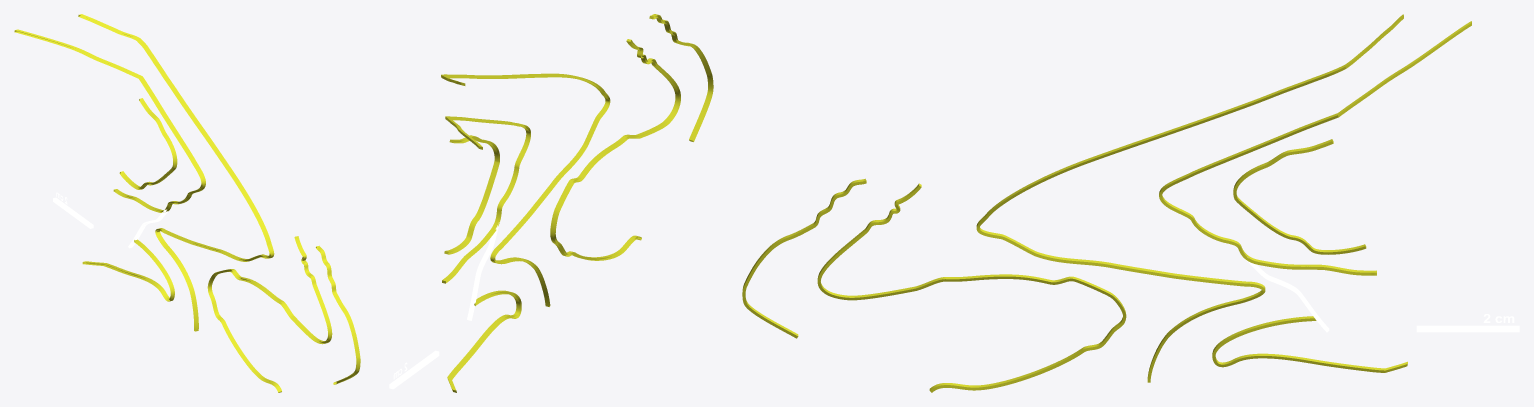
The model's file is Folds.glb.
3 views of the same model, side by side, from view 1: azimuth 30°, elevation 25°; view 2: azimuth 150°, elevation 25°; view 3: azimuth 270°, elevation 25° (orthographic). The views are drawn at different scales.
Parts seen in each view (by area): view 1: original curves.001; view 2: original curves.001, original additional curve.001, Cube.002; view 3: original curves.001, Cube.002.
Part boxes in pixels (x1,y1,x2,y2): original curves.001: [14, 14, 360, 392]; original curves.001: [441, 14, 713, 392]; original additional curve.001: [467, 222, 499, 320]; Cube.002: [389, 350, 439, 389]; original curves.001: [742, 14, 1471, 392]; Cube.002: [1416, 325, 1519, 332].
Size of the model in its own units: 0.0262 by 0.0766 by 0.1509.
